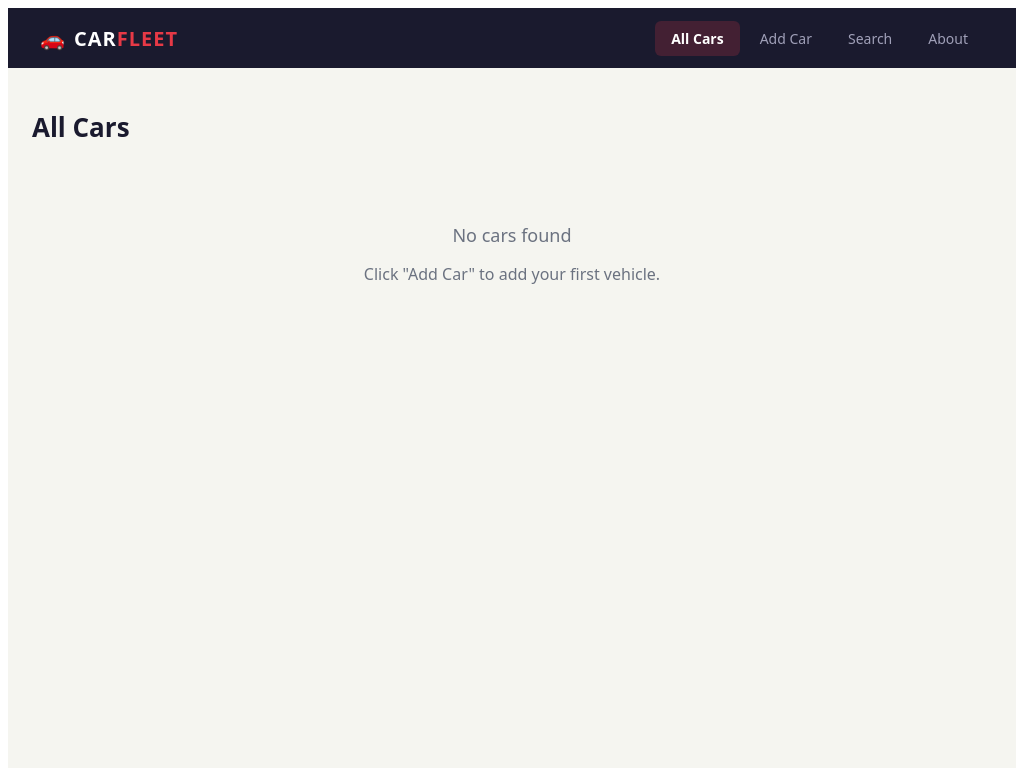
it: Search › navigates to Search page
The image size is (1024, 768).
Step 1. Click the button "Search" → (870,38), box x1=832 y1=20 x2=908 y2=56
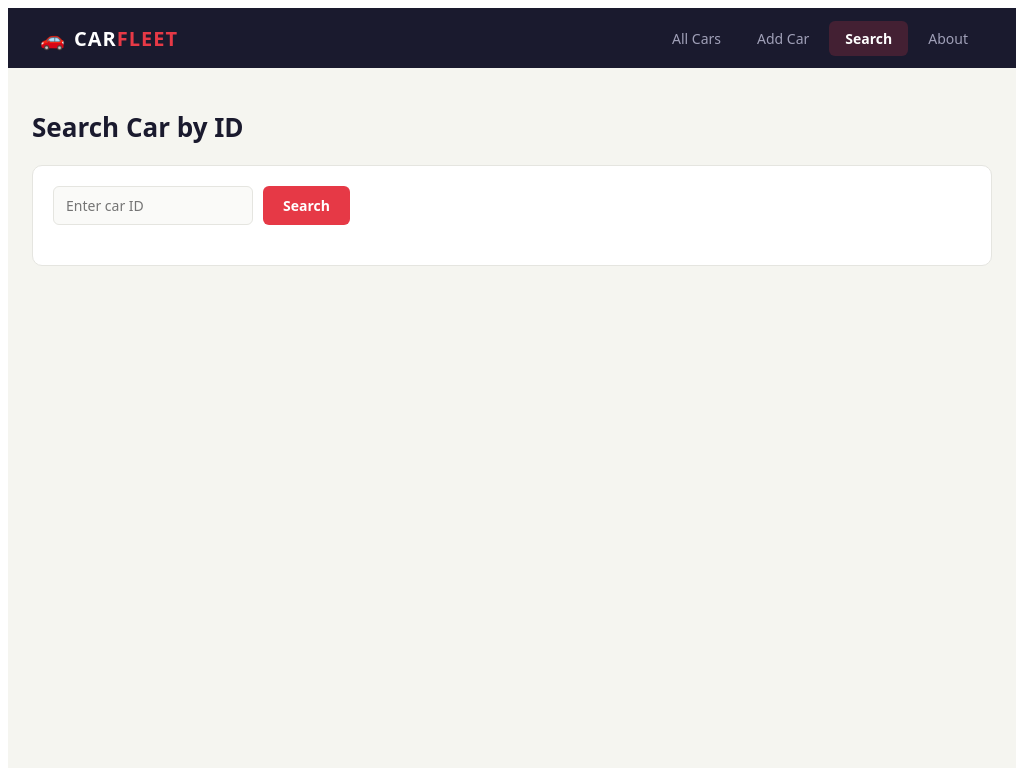
Expected: the heading "Search Car by ID" is shown, x1=32 y1=109 x2=244 y2=145
Expected: the number field with placeholder "Enter car ID" is shown, x1=53 y1=186 x2=253 y2=225
